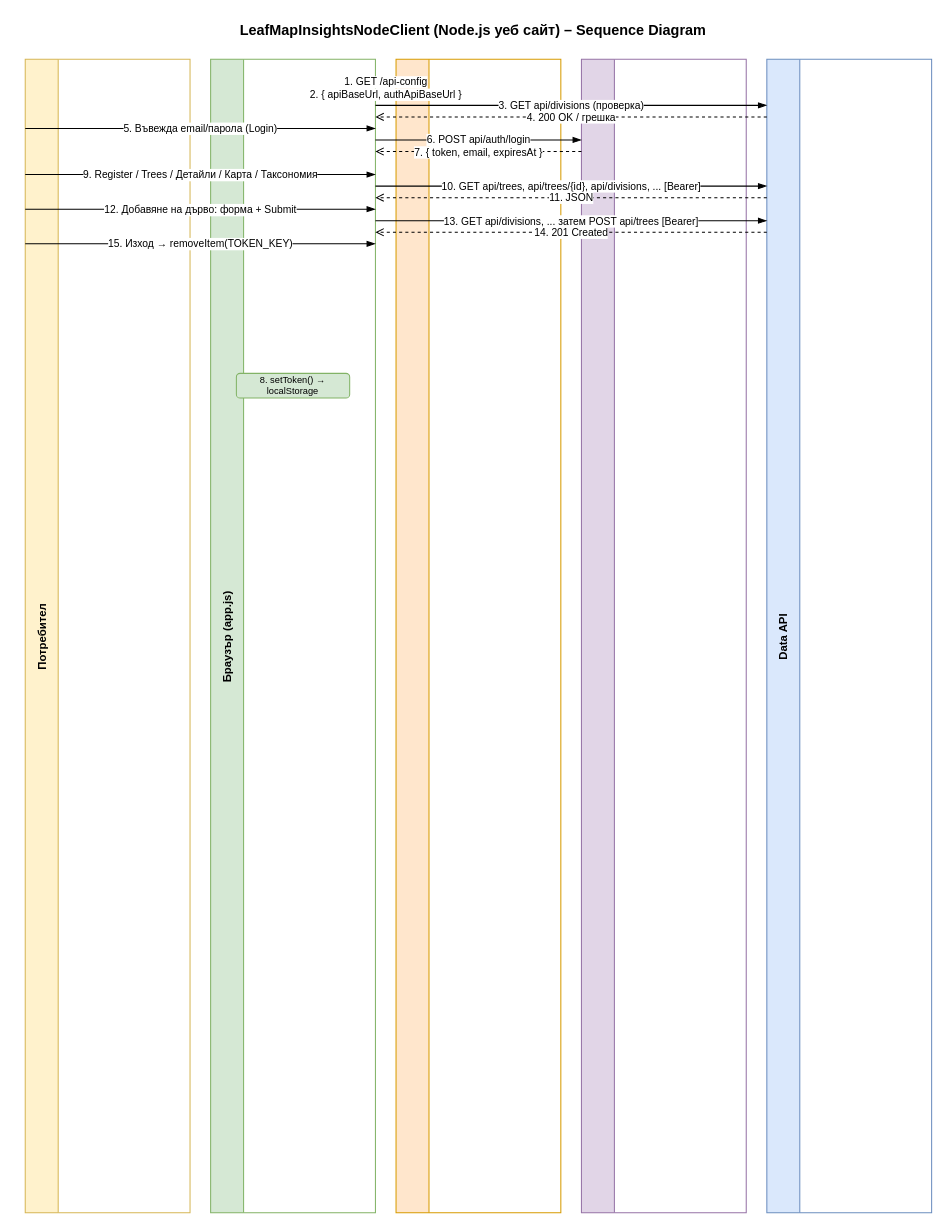
This 950x1231 diagram has some shape labels left out. The box of each missing label's shape, as (x1, y1, x2, y2) in pixels:
Auth API: (580, 58, 746, 1213)
Node сървър: (395, 58, 561, 1213)
